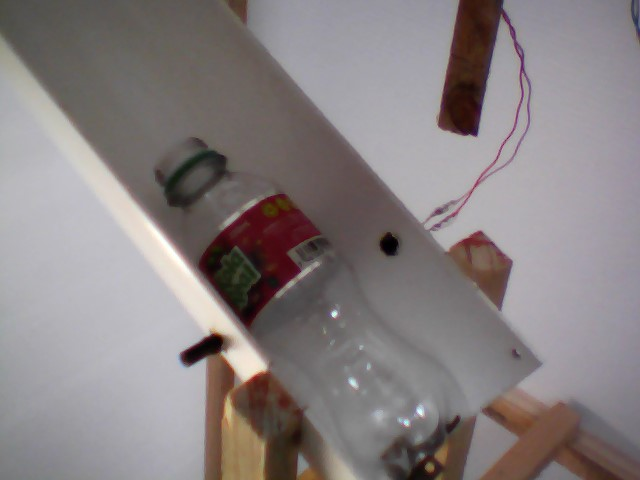plastico: (127, 127, 470, 480)
